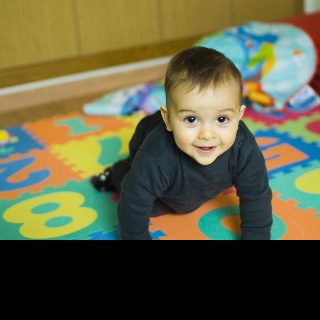without_mask: (168, 88, 239, 165)
